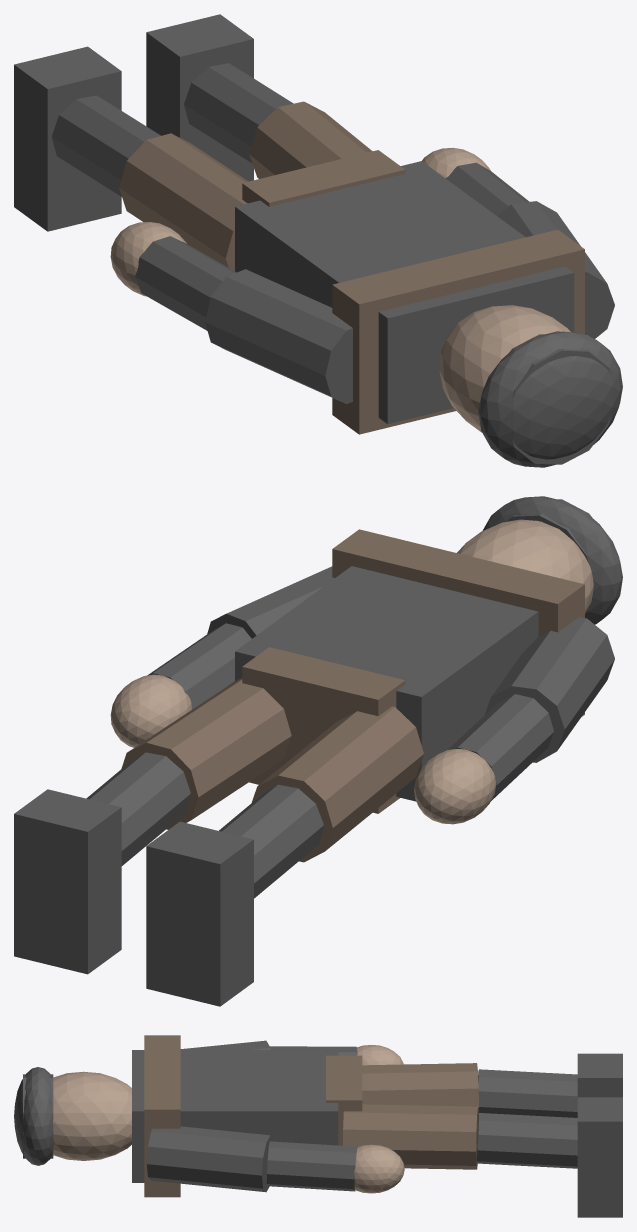
Rendered from SM_CharacterRaider_Preview.glb.
3 views of the same model, one above another, from view 1: azimuth 30°, elevation 25°; view 2: azimuth 150°, elevation 25°; view 3: azimuth 270°, elevation 25° (orthographic). The views are drawn at different scales.
Parts seen in each view (by area): view 1: Raider_segment_00, Raider_segment_16, Raider_segment_17, Raider_segment_06, Raider_segment_07, Raider_segment_04, Raider_segment_12, Raider_segment_01, Raider_segment_05, Raider_segment_11, Raider_segment_10, Raider_segment_08 (+6 smaller); view 2: Raider_segment_00, Raider_segment_06, Raider_segment_12, Raider_segment_04, Raider_segment_10, Raider_segment_16, Raider_segment_03, Raider_segment_07, Raider_segment_11, Raider_segment_05, Raider_segment_08, Raider_segment_01 (+5 smaller); view 3: Raider_segment_00, Raider_segment_10, Raider_segment_13, Raider_segment_01, Raider_segment_12, Raider_segment_11, Raider_segment_04, Raider_segment_05, Raider_segment_16, Raider_segment_14, Raider_segment_17, Raider_segment_03 (+6 smaller).
Boxes of the visible parts, x1,y1,x2,y2 form: Raider_segment_00: (235,161,574,424); Raider_segment_16: (332,229,584,434); Raider_segment_17: (478,331,622,467); Raider_segment_06: (14,46,121,231); Raider_segment_07: (205,269,352,403); Raider_segment_04: (119,133,248,271); Raider_segment_12: (146,14,253,181); Raider_segment_01: (439,305,570,432); Raider_segment_05: (51,95,160,196); Raider_segment_11: (184,63,293,163); Raider_segment_10: (249,101,372,178); Raider_segment_08: (135,236,236,330); Raider_segment_00: (235,566,538,801); Raider_segment_06: (146,821,253,1006); Raider_segment_12: (14,789,121,974); Raider_segment_04: (251,706,423,862); Raider_segment_10: (121,678,291,829); Raider_segment_16: (332,529,584,716); Raider_segment_03: (242,647,405,813); Raider_segment_07: (484,617,614,762); Raider_segment_11: (86,752,190,865); Raider_segment_05: (219,784,323,898); Raider_segment_08: (448,694,553,800); Raider_segment_01: (457,519,593,613); Raider_segment_00: (132,1050,338,1182); Raider_segment_10: (343,1104,478,1169); Raider_segment_13: (146,1126,273,1192); Raider_segment_01: (53,1071,131,1160); Raider_segment_12: (577,1097,622,1217); Raider_segment_11: (476,1113,577,1168); Raider_segment_04: (362,1063,478,1113); Raider_segment_05: (478,1069,577,1117); Raider_segment_16: (144,1035,180,1197); Raider_segment_14: (266,1141,357,1191); Raider_segment_17: (14,1067,53,1165); Raider_segment_03: (326,1055,362,1145).
Bounding box in the file's own units: 0.95 × 0.405 × 2.01.
